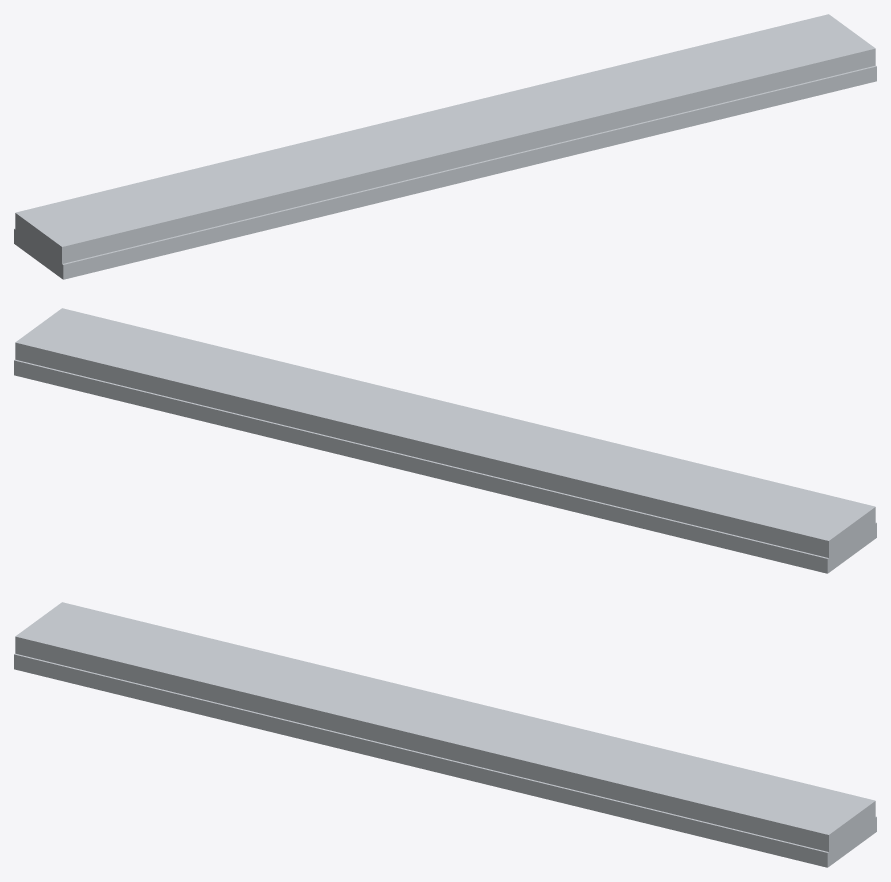
File: telhado_platibanda_rufo_2m.glb
3 renders of one model, top to bottom at view 1: azimuth 30°, elevation 25°; view 2: azimuth 150°, elevation 25°; view 3: azimuth 330°, elevation 25°, orthographic.
Visible parts, largest first — view 1: telhado_platibanda_rufo_2m; view 2: telhado_platibanda_rufo_2m; view 3: telhado_platibanda_rufo_2m.
Part boxes in pixels (x1,y1,x2,y2): telhado_platibanda_rufo_2m: (14, 14, 876, 279); telhado_platibanda_rufo_2m: (14, 308, 876, 573); telhado_platibanda_rufo_2m: (14, 602, 876, 867).
Bounding box in the file's own units: 2 × 0.075 × 0.21.
Materials: 1 (1 with a texture image).
